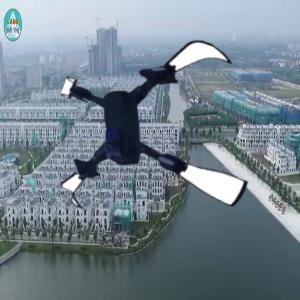drone: (55, 29, 263, 237)
